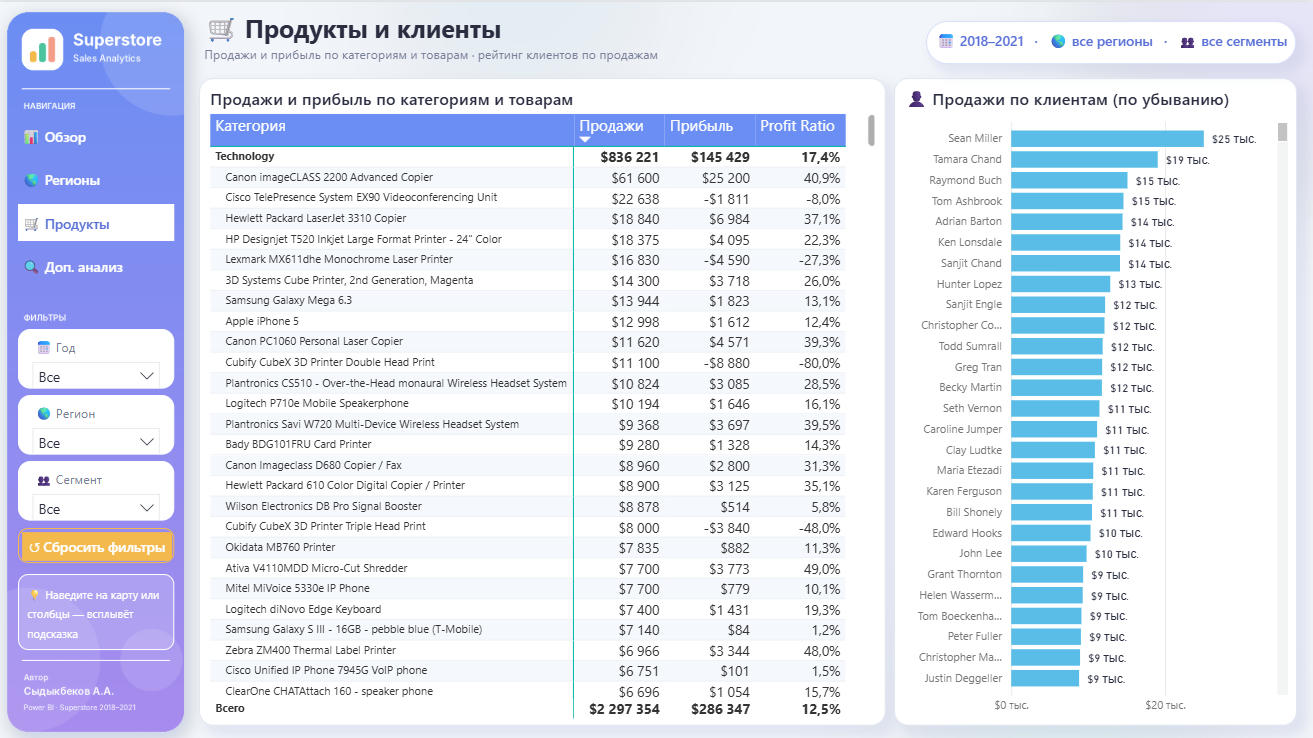

The dashboard page shown, as its layout file describes it:
{"tool":"powerbi","page":{"name":"Продукты и клиенты","canvas":[1280,720],"ordinal":2},"visuals":[{"type":"textbox","box":[196,4,700,66],"z":22000},{"type":"pivotTable","title":"Продажи и прибыль по категориям и товарам","fields":{"Rows":["Orders.Category","Orders.Product Name"],"Values":["Orders.Total Sales","Orders.Total Profit","Orders.Profit Ratio"]},"box":[196,74,668,630],"z":25000},{"type":"clusteredBarChart","title":"👤 Продажи по клиентам (по убыванию)","fields":{"Category":["Orders.Customer Name"],"Y":["Orders.Total Sales"]},"box":[872,74,392,630],"z":26000},{"type":"actionButton","box":[20,112,152,36],"z":50000},{"type":"actionButton","box":[20,154,152,36],"z":50100},{"type":"actionButton","box":[20,196,152,36],"z":50200},{"type":"actionButton","box":[20,238,152,36],"z":50300},{"type":"slicer","fields":{"Values":["Orders.Order Year"]},"box":[20,318,152,58],"z":50400},{"type":"slicer","fields":{"Values":["Orders.Region"]},"box":[20,382,152,58],"z":50500},{"type":"slicer","fields":{"Values":["Orders.Segment"]},"box":[20,446,152,58],"z":50600},{"type":"actionButton","box":[20,512,152,34],"z":50700},{"type":"textbox","box":[20,556,152,74],"z":50800},{"type":"card","fields":{"Values":["Orders.Filter Label"]},"box":[904,18,360,42],"z":50900}]}

Visuals, with their boxes on the page's 1280x720 design canvas (x1, y1, x2, y2). These are canvas units, not pixel positions in the 1313x738 screenshot, which may show the page scaled, cropped or inside an application window:
textbox: locate(196, 4, 896, 70)
"Продажи и прибыль по категориям и товарам" pivotTable: locate(196, 74, 864, 704)
"👤 Продажи по клиентам (по убыванию)" clusteredBarChart: locate(872, 74, 1264, 704)
actionButton: locate(20, 112, 172, 148)
actionButton: locate(20, 154, 172, 190)
actionButton: locate(20, 196, 172, 232)
actionButton: locate(20, 238, 172, 274)
slicer - Orders.Order Year: locate(20, 318, 172, 376)
slicer - Orders.Region: locate(20, 382, 172, 440)
slicer - Orders.Segment: locate(20, 446, 172, 504)
actionButton: locate(20, 512, 172, 546)
textbox: locate(20, 556, 172, 630)
card - Orders.Filter Label: locate(904, 18, 1264, 60)
